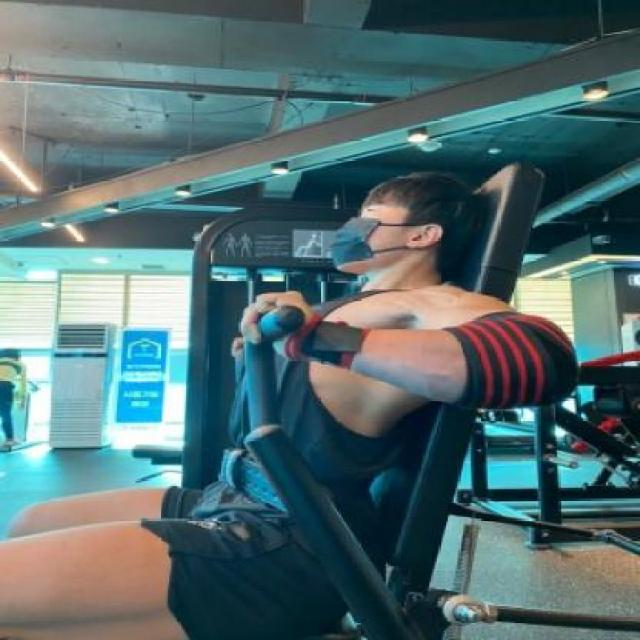Chest Press machine: (1, 138, 638, 640)
